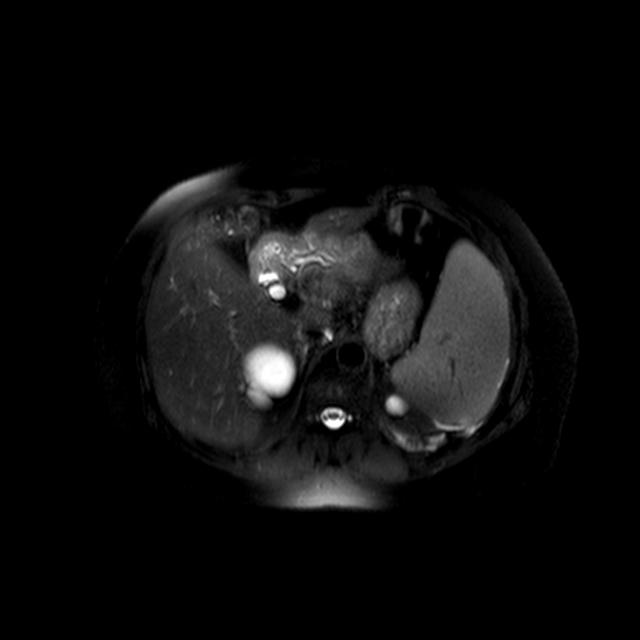sag: (242, 343, 298, 411)
sol: (384, 395, 413, 417)
